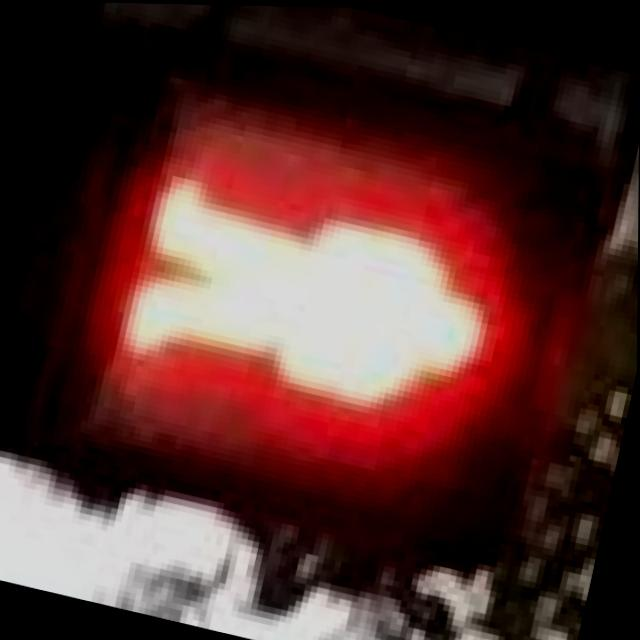red_light: (70, 100, 569, 564)
